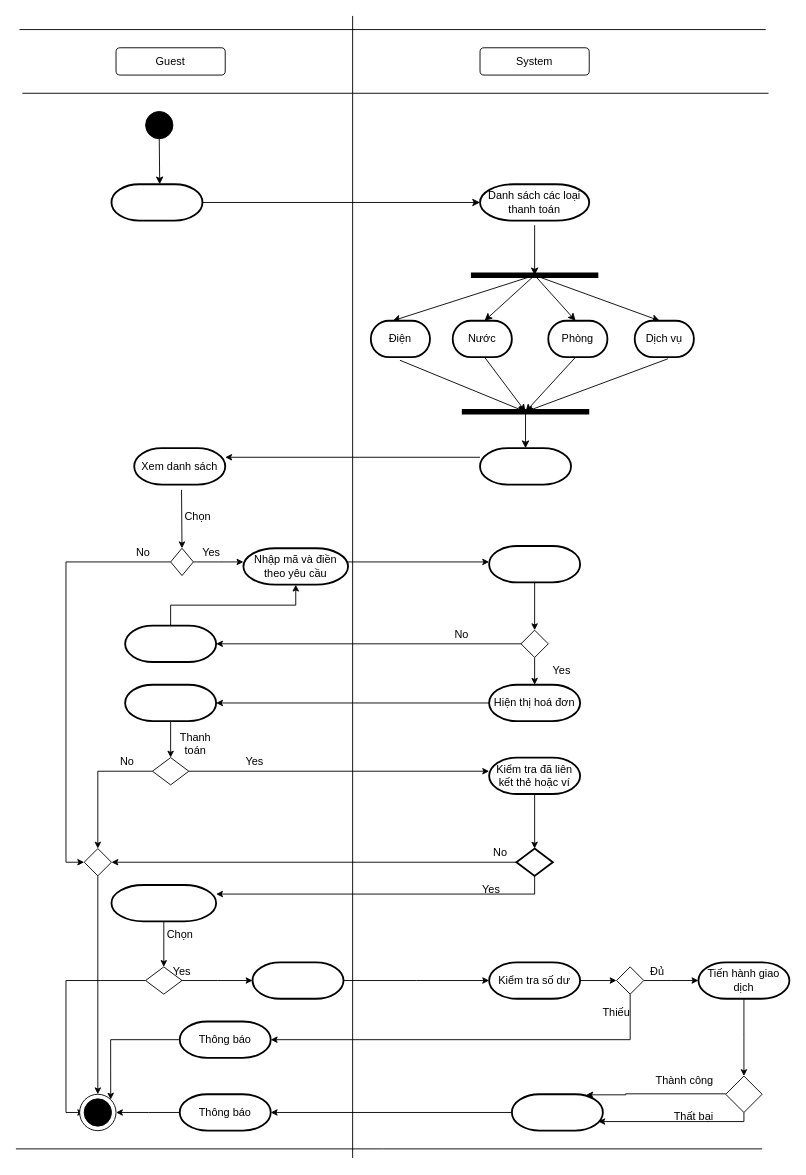
Image size: 806x1175. Some labels were removed from this diagram. Here are the shapes that lost their labels. From the top down, the centre of each, then its label:
At point 156,202: "Chọn thanh toán".
At point 525,466: "Hiển thị".
At point 534,564: "Tìm kiếm".
At point 170,643: "Thông báo không tìm thấy".
At point 170,702: "Xem hoá đơn".
At point 163,903: "Hiện thi danh sách thẻ ví đã liên kết".
At point 297,980: "Tài khoản".
At point 557,1112: "lưu vào lịch sử giao dịch".
